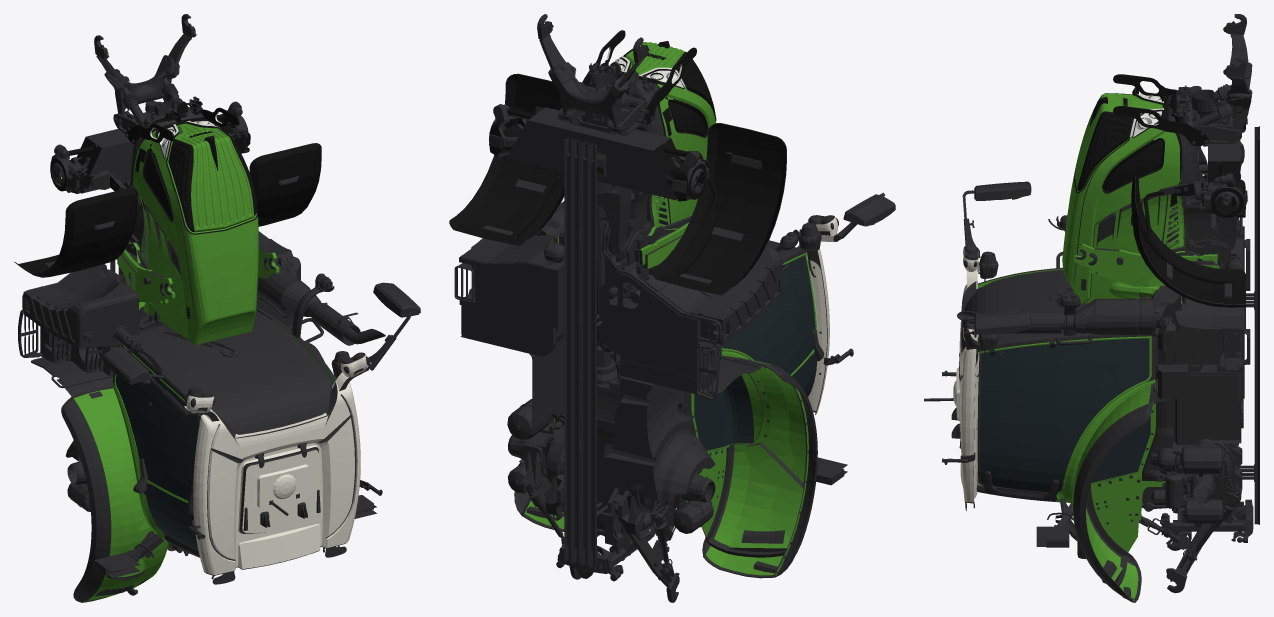
File: base_link_visuals.obj
The picture shows the model from 3 angles, left to right: view 1: azimuth 30°, elevation 25°; view 2: azimuth 150°, elevation 25°; view 3: azimuth 270°, elevation 25°; orthographic projection. The views are drawn at different scales.
Visible parts, largest first — view 1: base_link; view 2: base_link; view 3: base_link.
Boxes of the visible parts, x1,y1,x2,y2 form: base_link: (14,14,420,602); base_link: (449,14,895,602); base_link: (924,14,1259,602).
Bounding box in the file's own units: 29.24 × 51.16 × 29.05.
